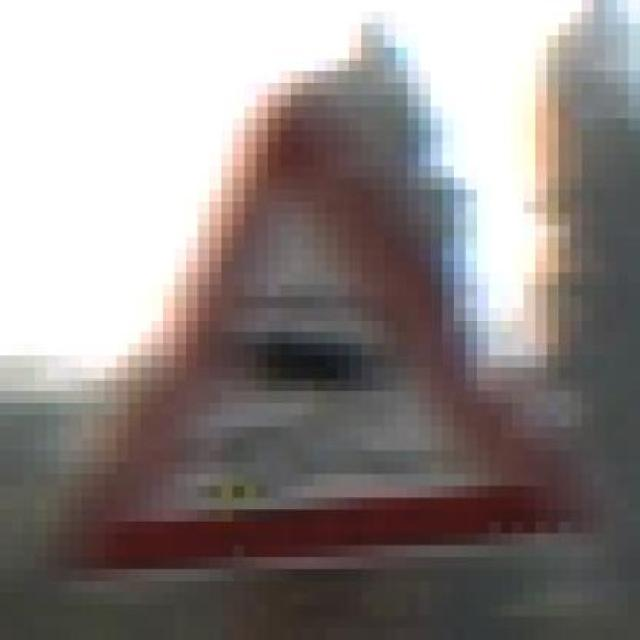Slippery Road Ahead: (35, 47, 593, 593)
